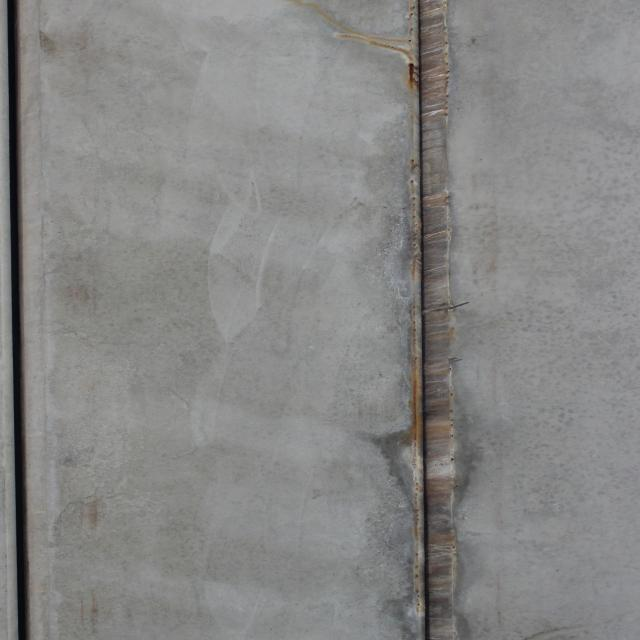corrosion: (407, 0, 468, 640), (289, 0, 407, 61)
